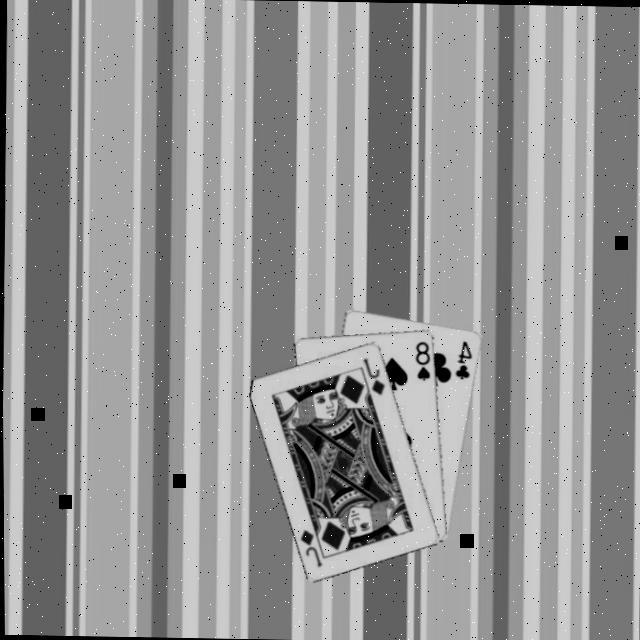4C: (448, 338, 474, 382)
8S: (410, 338, 431, 383)
JD: (356, 356, 386, 398), (294, 526, 322, 570)
